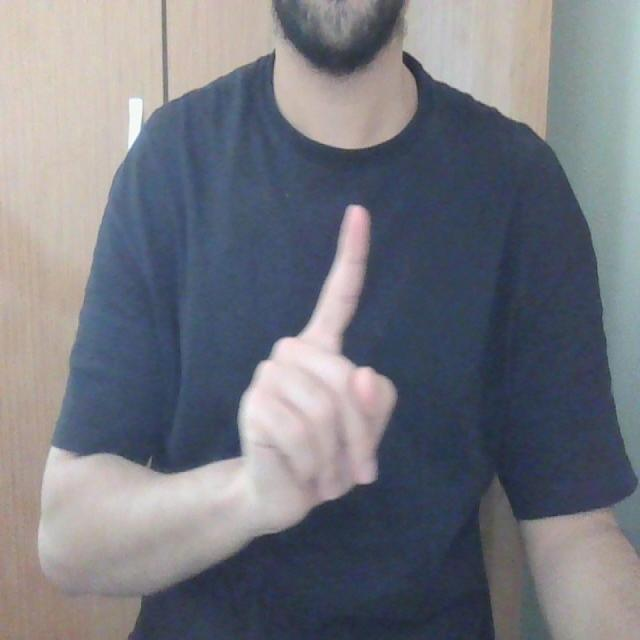Hayir: (238, 147, 395, 549)
